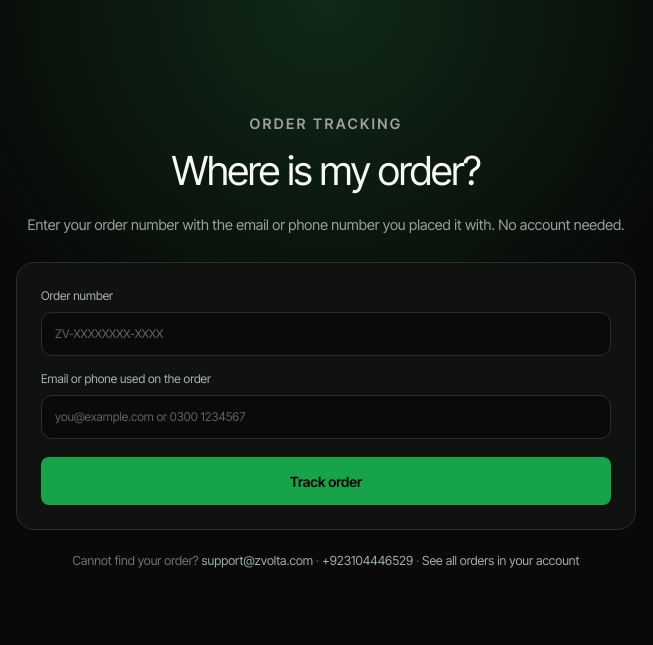
Test: surfaces a mismatch instead of silently showing nothing
The width and height of the screenshot is (653, 645).
Type "ZV-1-A" into the field labelled "Order number" at (326, 334), box [41,312,611,356]
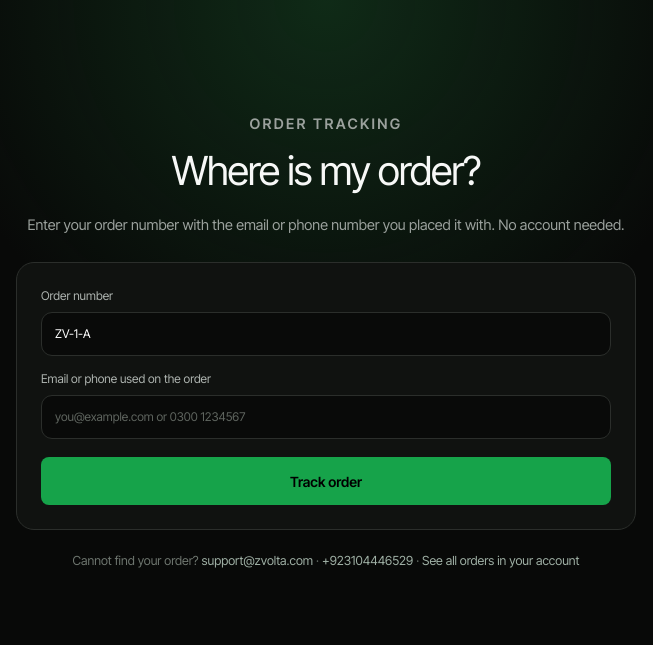
Type "wrong@example.com" into the field labelled "Email or phone used on the order" at (326, 417), box [41,395,611,439]
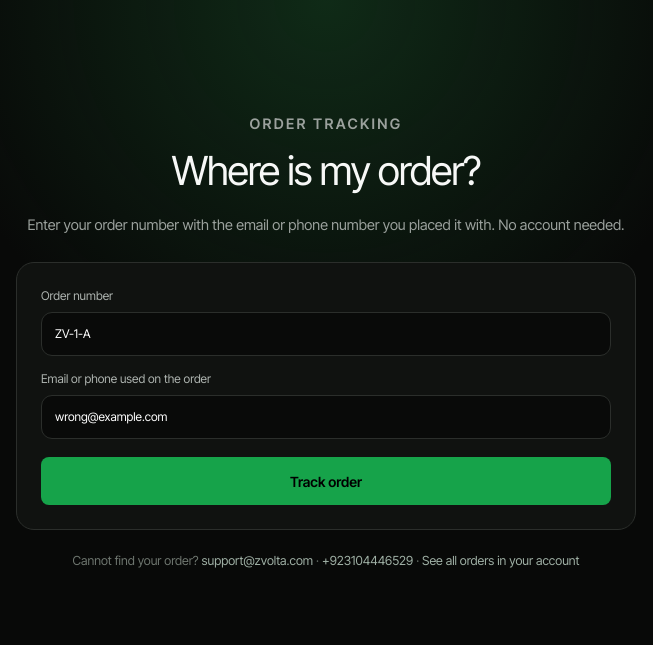
Click the button "Track order" at (326, 481), box [41,457,611,505]
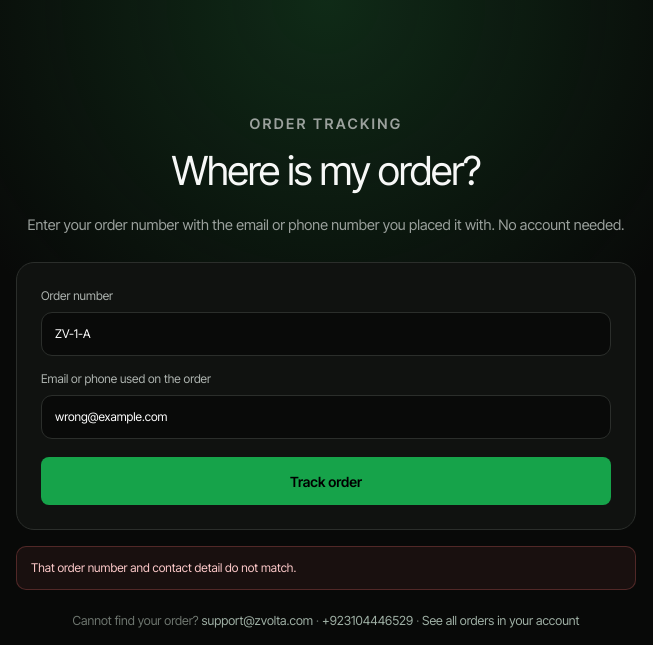
Check: the message shows "do not match", box [31,560,296,575]
